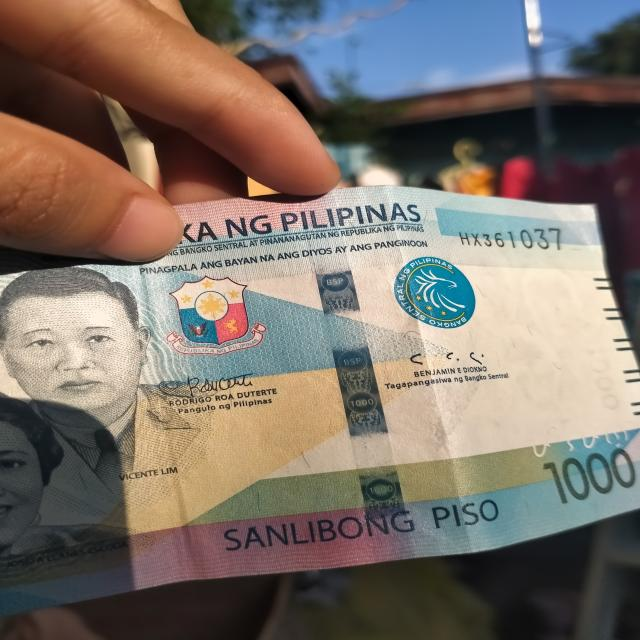security_thread: (298, 186, 416, 563)
see_through_mark: (520, 420, 640, 465)
serial_number: (454, 220, 574, 254)
